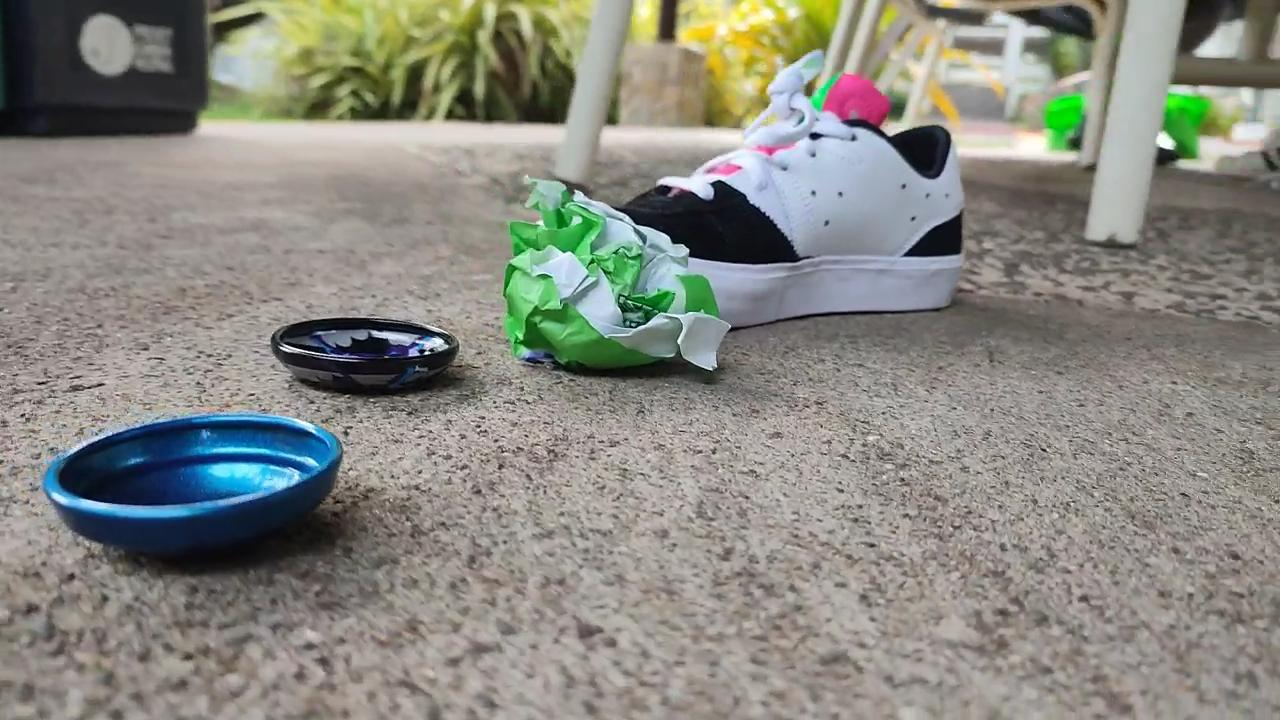Paper: (482, 152, 738, 396)
